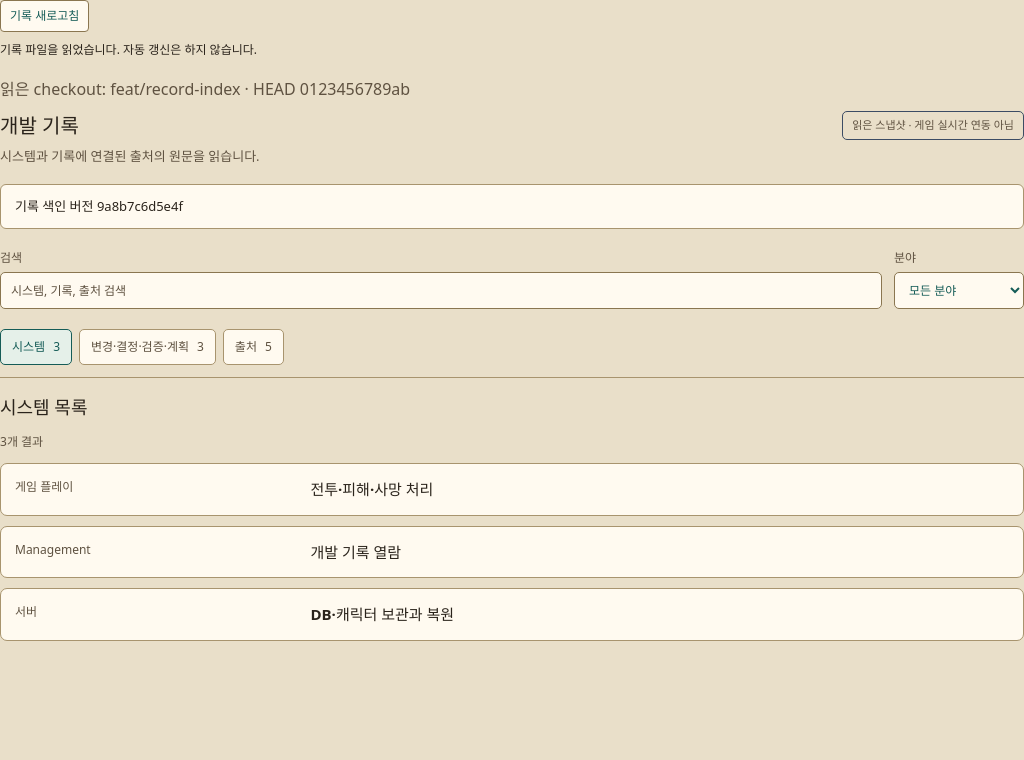
details › shows a record with type, one PR line per pull request, linked systems and 원문
The image size is (1024, 760).
Expected: the search field labelled "검색" is shown, 0,272 -> 882,309
Click the button "변경·결정·검증·계획 3" at (147, 347), box 79,329 -> 216,365
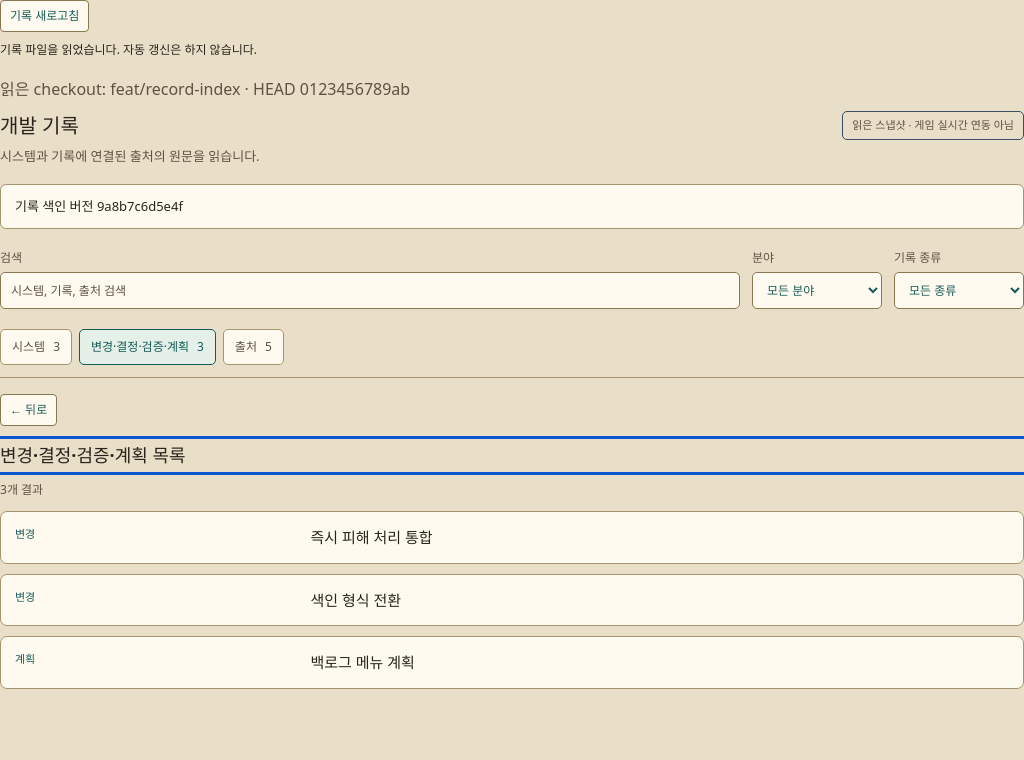
Click the button "변경 색인 형식 전환" at (356, 600), box 0,574 -> 1023,626
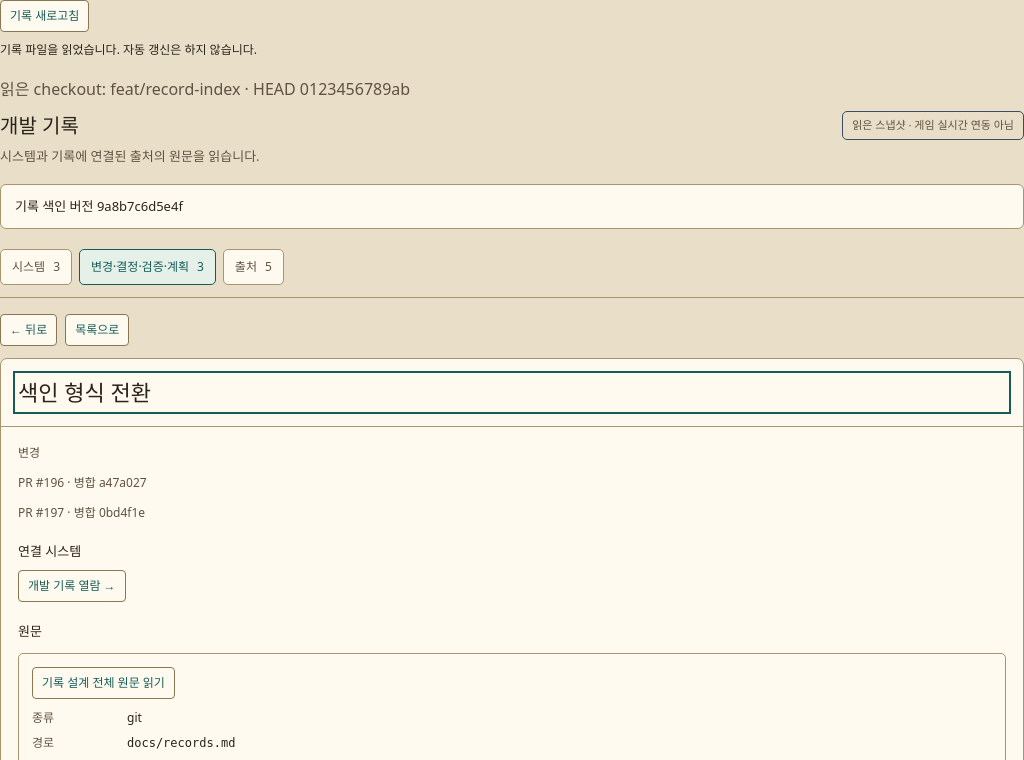
Result: the text "변경" is shown at 18,444 -> 40,461
Result: the heading "연결 시스템" is shown at 18,542 -> 81,560
Result: the button "개발 기록 열람 →" is shown at 18,570 -> 126,602
